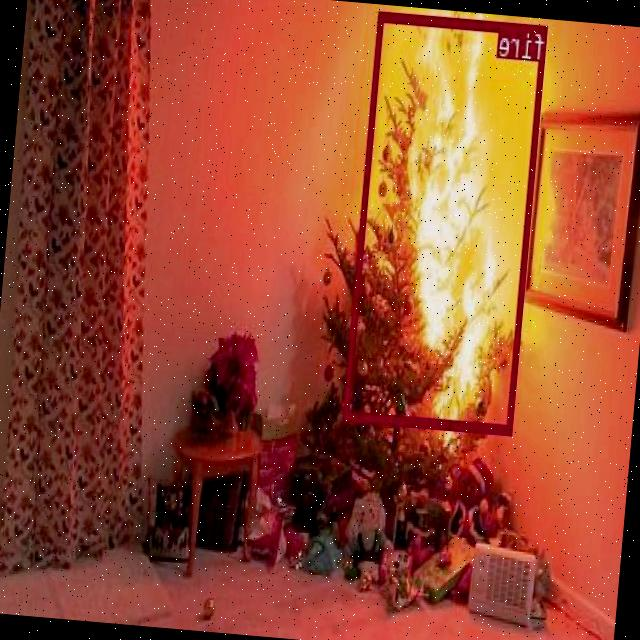fire: (343, 9, 548, 432)
